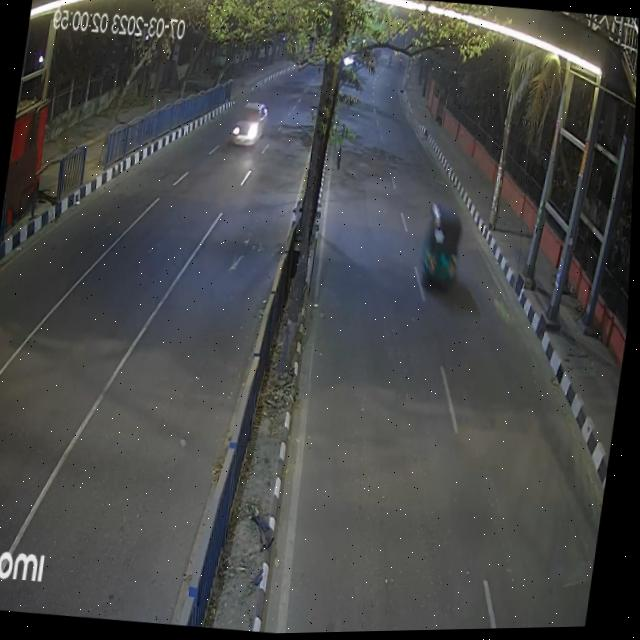cng: (419, 204, 465, 291)
